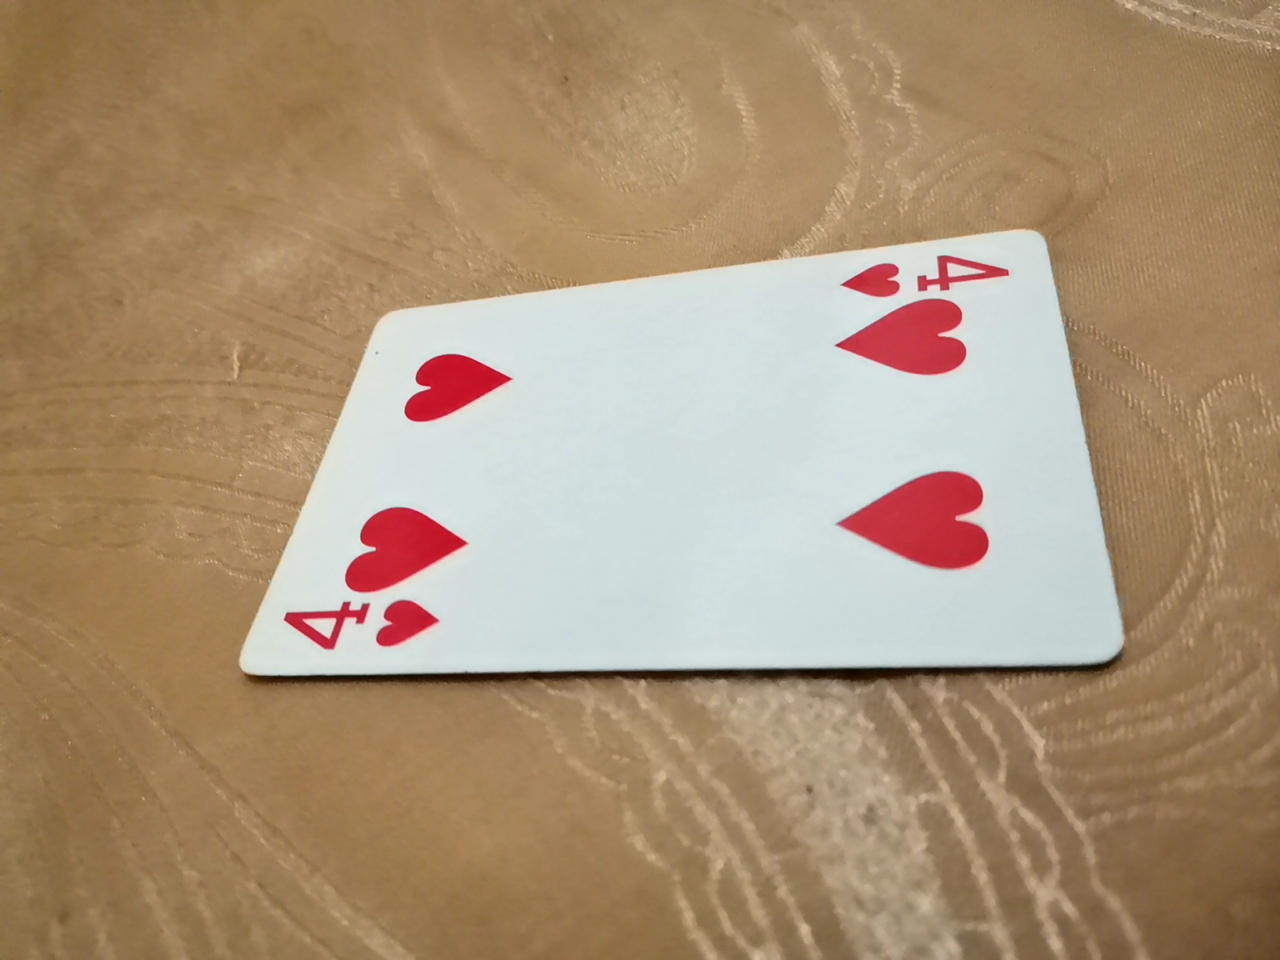hx 4: (250, 234, 1121, 690)
